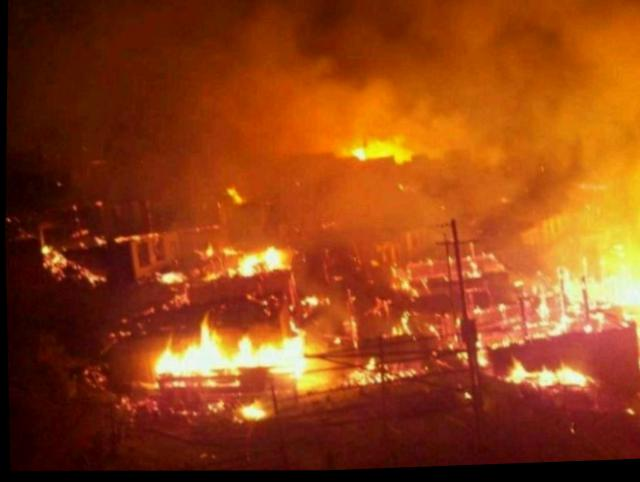fire: (337, 247, 639, 403), (136, 317, 313, 429), (221, 238, 295, 284)
